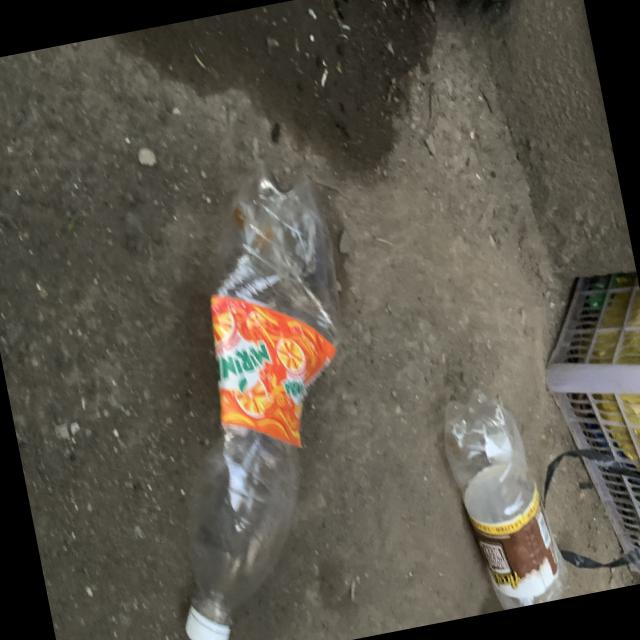Bottle: (185, 174, 339, 640)
